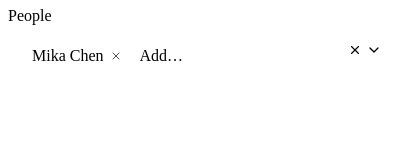
Test: Autocomplete › hides already-selected options when asked
Focus the dropdown: (240, 56) top-left (140, 43), bottom-right (340, 69)
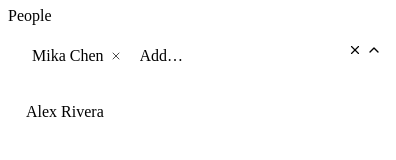
Now the option "Alex Rivera" is shown, box top-left (26, 103), bottom-right (104, 120)
